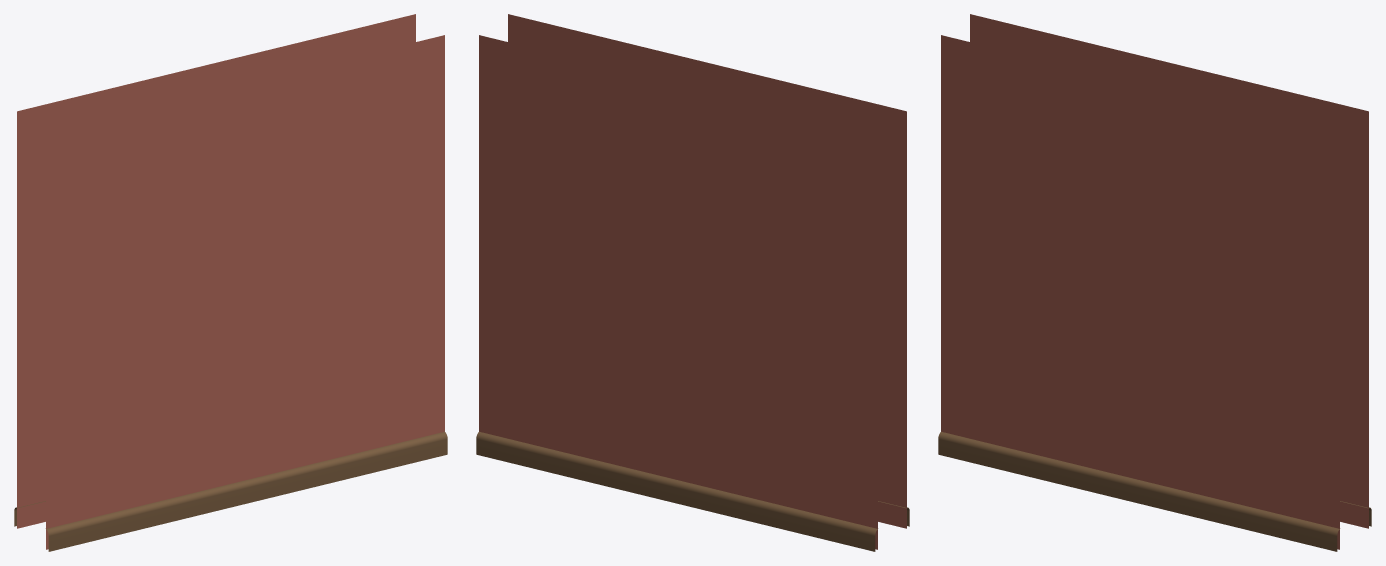
Rendered from SM_Wall_01.fbx.
3 renders of one model, left to right at view 1: azimuth 30°, elevation 25°; view 2: azimuth 150°, elevation 25°; view 3: azimuth 330°, elevation 25°, orthographic.
Visible parts, largest first — view 1: SM_Wall_01; view 2: SM_Wall_01; view 3: SM_Wall_01.
Boxes of the visible parts, x1,y1,x2,y2 form: SM_Wall_01: (14,14,447,551); SM_Wall_01: (476,14,909,551); SM_Wall_01: (938,14,1371,551).
Size of the model in its own units: 400 by 400 by 60.
